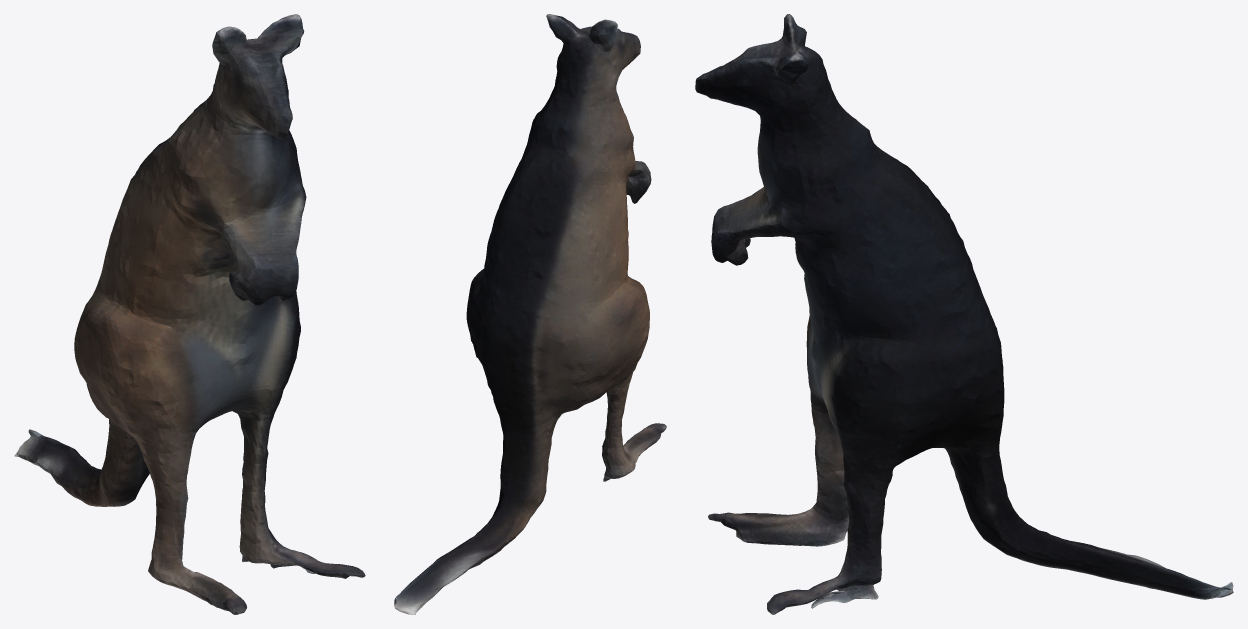
3 views of the same model, side by side, from view 1: azimuth 30°, elevation 25°; view 2: azimuth 150°, elevation 25°; view 3: azimuth 270°, elevation 25° (orthographic). The views are drawn at different scales.
Parts seen in each view (by area): view 1: Mesh_0.098; view 2: Mesh_0.098; view 3: Mesh_0.098.
Boxes of the visible parts, bbox=[...] form: Mesh_0.098: bbox=[14, 14, 365, 614]; Mesh_0.098: bbox=[394, 14, 666, 614]; Mesh_0.098: bbox=[695, 14, 1233, 614].
Bounding box in the file's own units: 0.6651 × 1.78 × 1.53.
Materials: 1 (1 with a texture image).
